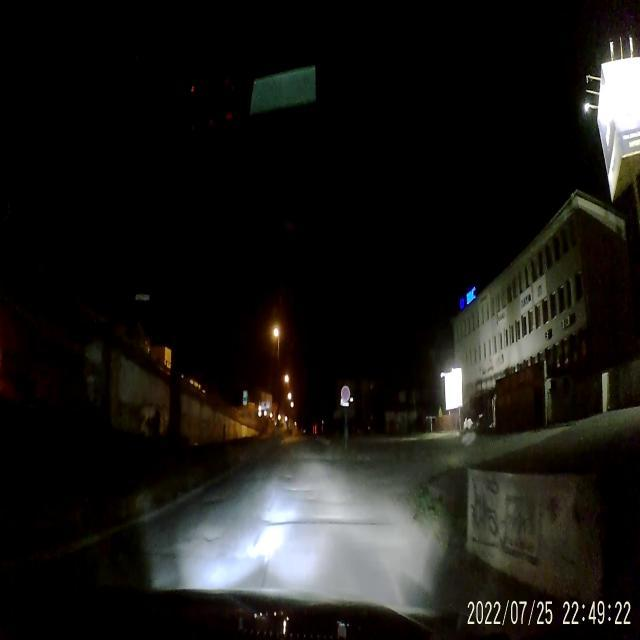Manhole: (201, 490, 226, 511)
Pothole: (202, 526, 223, 546), (280, 470, 296, 484)
